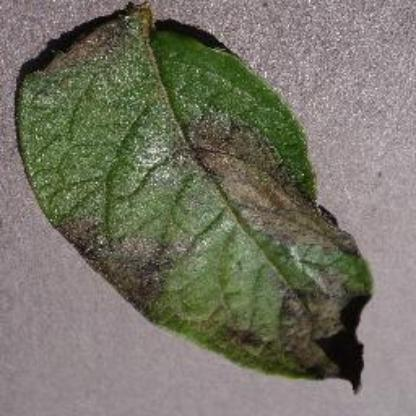Late-Blight: (19, 1, 373, 391)
